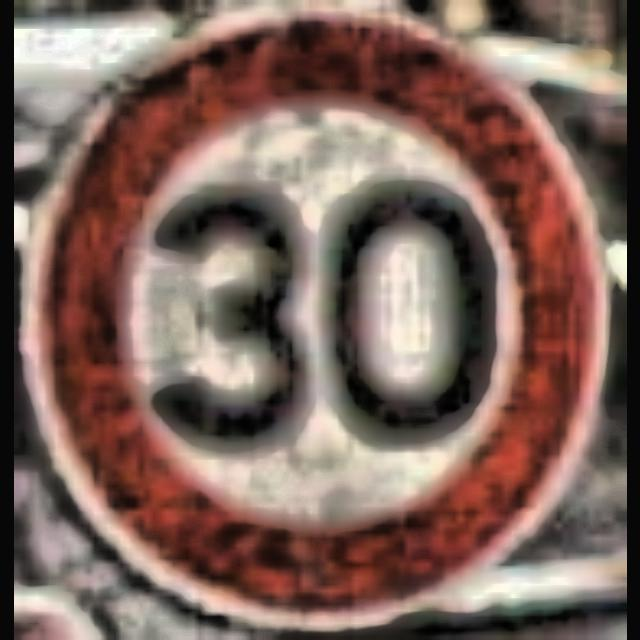speed_30: (14, 0, 626, 640)
